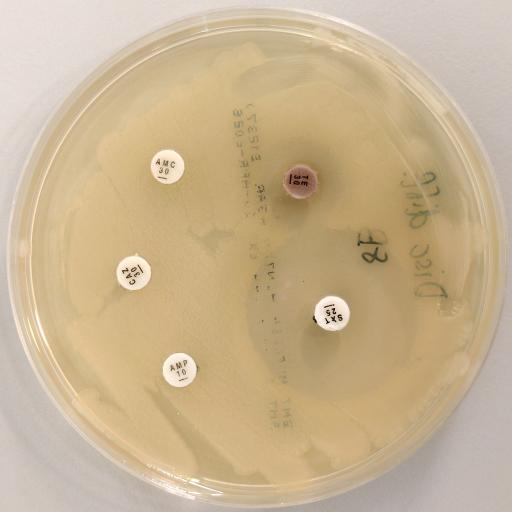disc: (115, 256, 151, 292), (314, 296, 350, 332), (150, 149, 185, 185), (282, 165, 318, 199), (162, 353, 196, 387)
